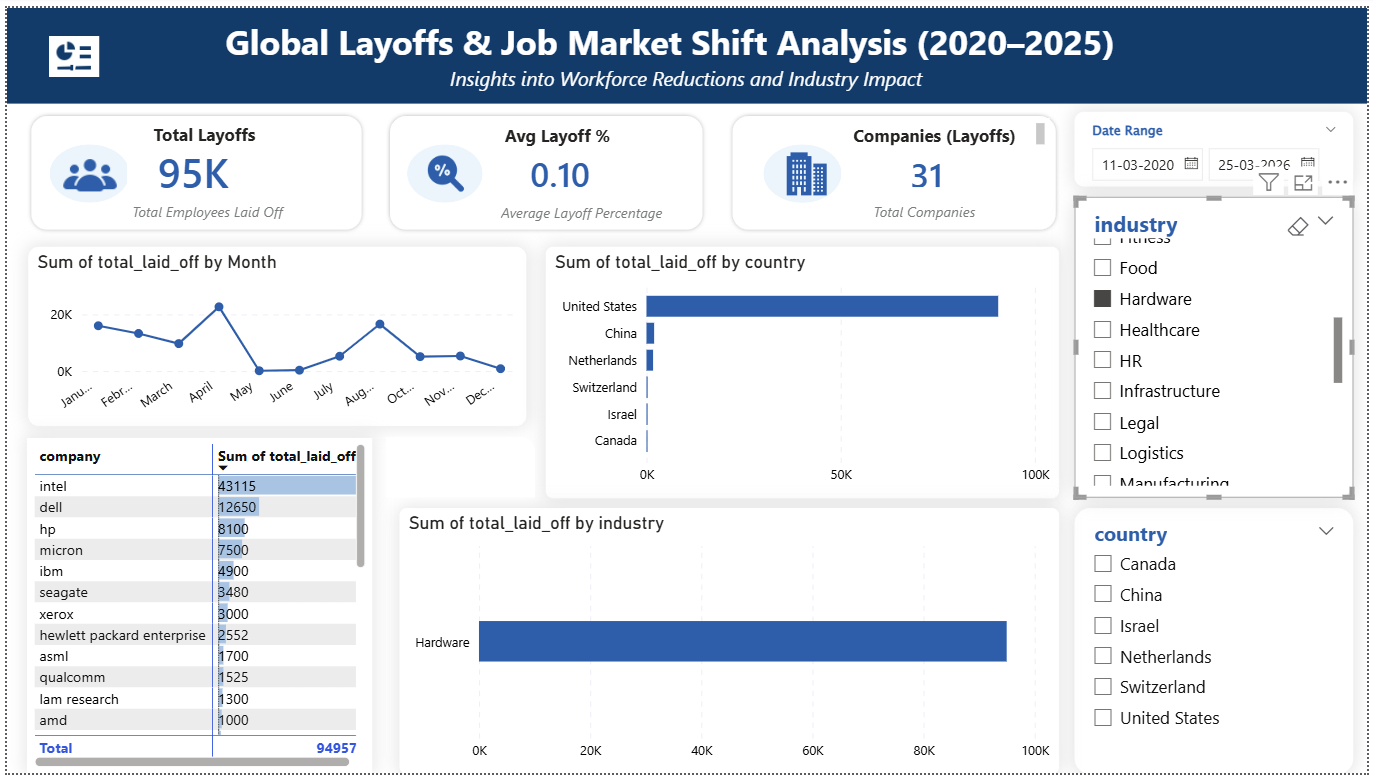

The dashboard page shown, as its layout file describes it:
{"tool":"powerbi","page":{"name":"Page 1","canvas":[1280,720],"ordinal":0},"visuals":[{"type":"lineChart","fields":{"Category":["layoffs1.date.Variation.Date Hierarchy.Year","layoffs1.date.Variation.Date Hierarchy.Quarter","layoffs1.date.Variation.Date Hierarchy.Month","layoffs1.date.Variation.Date Hierarchy.Day"],"Y":["Sum(layoffs1.total_laid_off)"]},"box":[20.3,224.3,468.9,169.1],"z":0},{"type":"slicer","fields":{"Values":["layoffs1.date"]},"box":[1004.7,97.6,262.4,70.6],"z":1000},{"type":"slicer","fields":{"Values":["layoffs1.country"]},"box":[1004.3,470,262.6,250.2],"z":2000},{"type":"slicer","fields":{"Values":["layoffs1.industry"]},"box":[1004.3,178.1,262.6,282.9],"z":3000},{"type":"clusteredBarChart","fields":{"Category":["layoffs1.country"],"Y":["Sum(layoffs1.total_laid_off)"]},"box":[507.2,224.3,483.5,236.7],"z":4000},{"type":"clusteredBarChart","fields":{"Category":["layoffs1.industry"],"Y":["Sum(layoffs1.total_laid_off)"]},"box":[369.7,470,621,250.2],"z":5000},{"type":"tableEx","fields":{"Values":["layoffs1.company","Sum(layoffs1.total_laid_off)"]},"box":[19.2,404.6,324.6,315.6],"z":6000},{"type":"shape","box":[0,0,1280,90],"z":7000},{"type":"textbox","box":[186,4.7,876.7,84.9],"z":8000},{"type":"textbox","box":[369.8,47.7,539.5,61.6],"z":9000},{"type":"image","box":[19.8,17.4,86,55.8],"z":10000},{"type":"group","id":"g1","title":"Group 1","box":[356.2,98.1,302.1,115],"z":11000},{"type":"group","id":"g2","title":"Group 1","box":[678.5,98.1,312.2,115],"z":12000},{"type":"group","id":"g3","title":"Group 2","box":[19.2,98.1,319,115],"z":13000},{"type":"shape","box":[19.2,98.1,319,115],"z":14000,"group":"g3"},{"type":"shape","box":[356.2,98.1,302.1,115],"z":14000,"group":"g1"},{"type":"shape","box":[678.5,98.1,312.2,115],"z":14000,"group":"g2"},{"type":"shape","box":[356.2,403.5,140.9,57.5],"z":14000},{"type":"shape","box":[40.7,128.5,75.3,55.1],"z":15000,"group":"g3"},{"type":"shape","box":[376.6,128.5,71.3,55.1],"z":15000,"group":"g1"},{"type":"shape","box":[711.9,128.8,73.7,55.2],"z":15000,"group":"g2"},{"type":"cardVisual","title":"Companies Conducting Layoffs","fields":{"Data":["layoffs1.company_with_layoffs"]},"box":[821.1,125.1,110.5,62],"z":17000,"group":"g2"},{"type":"textbox","box":[810,178.5,158.7,27.3],"z":18000,"group":"g2"},{"type":"textbox","box":[459.5,179.9,171.7,28.5],"z":18000,"group":"g1"},{"type":"cardVisual","title":"Total Layoffs","fields":{"Data":["Sum(layoffs1.total_laid_off)"]},"box":[113.9,116.3,151.3,74.9],"z":18250,"group":"g3"},{"type":"textbox","box":[113.9,177.9,168.2,27.8],"z":18375,"group":"g3"},{"type":"textbox","box":[133.7,103.1,117.2,36.4],"z":18500,"group":"g3"},{"type":"textbox","box":[791.2,104.5,189.6,30.7],"z":18500,"group":"g2"},{"type":"cardVisual","title":"Avg Layoff''s","fields":{"Data":["layoffs1.avg og layoff %"]},"box":[463,122.8,126.2,65.4],"z":18750,"group":"g1"},{"type":"textbox","box":[463,103.7,122.9,33.8],"z":18875,"group":"g1"},{"type":"image","box":[53.8,128.5,50.2,55.1],"z":19000,"group":"g3"},{"type":"image","box":[389,128.5,47.5,55.1],"z":19000,"group":"g1"},{"type":"image","box":[726.7,134.6,51.1,44.2],"z":19000,"group":"g2"}]}

Visuals, with their boxes in screenshot pixels (x1, y1, x2, y2), scaled from the page's 1280x720 canvas onto the 1373x780 screenshot:
lineChart - layoffs1.date.Variation.Date Hierarchy.Year x layoffs1.date.Variation.Date Hierarchy.Quarter: 22,243,525,426
slicer - layoffs1.date: 1078,106,1359,182
slicer - layoffs1.country: 1077,509,1359,779
slicer - layoffs1.industry: 1077,193,1359,499
clusteredBarChart - layoffs1.country x Sum(layoffs1.total_laid_off): 544,243,1063,499
clusteredBarChart - layoffs1.industry x Sum(layoffs1.total_laid_off): 397,509,1063,779
tableEx - layoffs1.company x Sum(layoffs1.total_laid_off): 21,438,369,779
shape: 0,0,1372,98
textbox: 200,5,1140,97
textbox: 397,52,975,118
image: 21,19,113,79
"Group 1" group: 382,106,706,231
"Group 1" group: 728,106,1063,231
"Group 2" group: 21,106,363,231
shape: 21,106,363,231
shape: 382,106,706,231
shape: 728,106,1063,231
shape: 382,437,533,499
shape: 44,139,124,199
shape: 404,139,480,199
shape: 764,140,843,199
"Companies Conducting Layoffs" cardVisual: 881,136,999,203
textbox: 869,193,1039,223
textbox: 493,195,677,226
"Total Layoffs" cardVisual: 122,126,284,207
textbox: 122,193,303,223
textbox: 143,112,269,151
textbox: 849,113,1052,146
"Avg Layoff''s" cardVisual: 497,133,632,204
textbox: 497,112,628,149
image: 58,139,112,199
image: 417,139,468,199
image: 779,146,834,194
